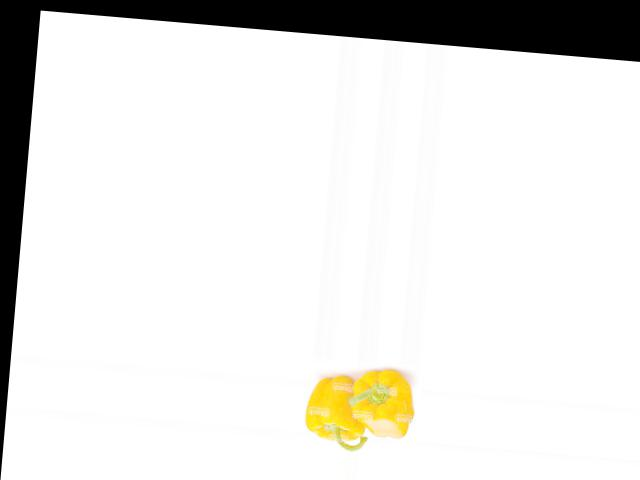bell_pepper: (301, 371, 375, 450)
